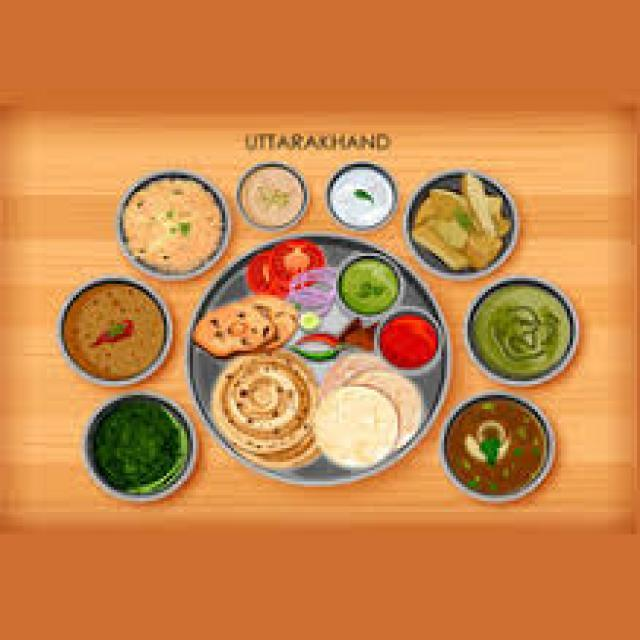raita: (318, 164, 403, 235)
rice: (114, 171, 231, 277)
roti: (203, 353, 316, 452), (186, 291, 301, 367)
sweet: (60, 284, 170, 384), (410, 174, 518, 275), (230, 163, 314, 234), (378, 315, 439, 367)
veg-fry: (406, 174, 516, 275)
